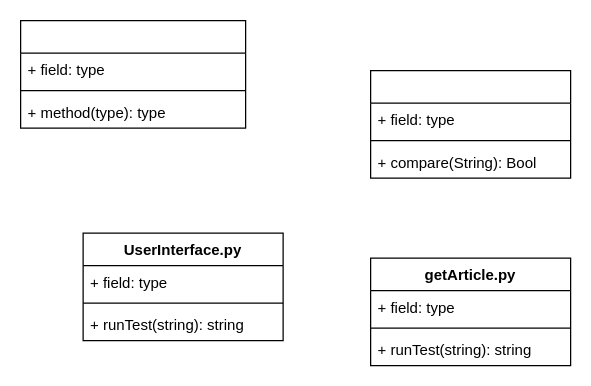
The diagram is 591 pixels wide and 386 high, and some of its shapes have lost their labels. Each missing label, with the box of its shape:
Compare.py: (369, 69, 571, 178)
Main.py: (19, 19, 246, 128)
